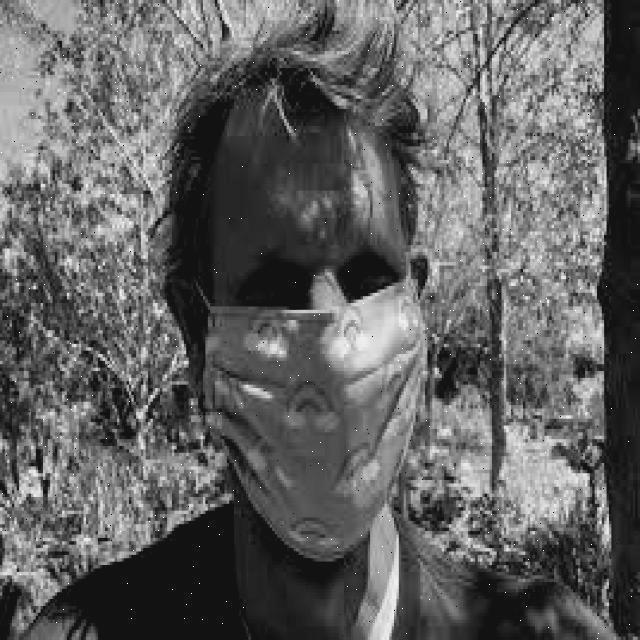fake: (192, 250, 438, 566)
real: (206, 128, 430, 571)
